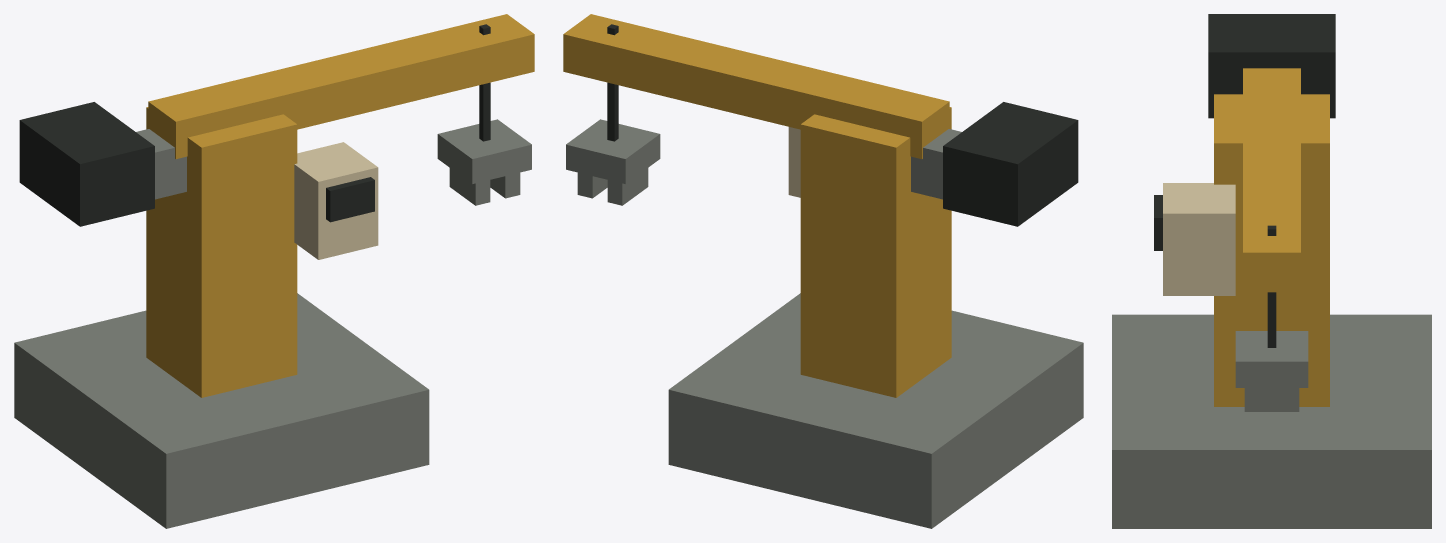
File: crane.gltf
The picture shows the model from 3 angles, left to right: view 1: azimuth 30°, elevation 25°; view 2: azimuth 150°, elevation 25°; view 3: azimuth 270°, elevation 25°; orthographic projection. The views are drawn at different scales.
Visible parts, largest first — view 1: base, tower, boom, counterweight, cab, grip, cabWindow, supportArm, clawLBlade, cable, clawRBlade; view 2: base, tower, boom, counterweight, grip, supportArm, cab, clawLBlade, cable, clawRBlade; view 3: base, tower, boom, counterweight, cab, grip, clawRBlade, cable, cabWindow.
Boxes of the visible parts, x1,y1,x2,y2 form: base: (14, 293, 429, 528); tower: (146, 107, 297, 397); boom: (148, 14, 534, 159); counterweight: (19, 102, 154, 226); cab: (294, 142, 378, 259); grip: (437, 119, 531, 183); cabWindow: (326, 177, 374, 222); supportArm: (136, 129, 186, 199); clawLBlade: (449, 168, 490, 205); cable: (479, 24, 490, 141); clawRBlade: (490, 172, 520, 198); base: (668, 293, 1083, 528); tower: (800, 107, 951, 397); boom: (563, 14, 949, 159); counterweight: (943, 102, 1078, 226); grip: (566, 119, 660, 183); supportArm: (911, 129, 961, 199); cab: (788, 127, 800, 197); clawLBlade: (607, 168, 648, 205); cable: (607, 24, 618, 141); clawRBlade: (577, 172, 607, 198); base: (1112, 314, 1431, 528); tower: (1214, 94, 1329, 406); boom: (1243, 68, 1300, 292); counterweight: (1208, 14, 1335, 118); cab: (1163, 183, 1235, 295); grip: (1235, 331, 1308, 387); clawRBlade: (1244, 388, 1299, 411); cable: (1267, 225, 1276, 347); cabWindow: (1154, 195, 1162, 250).
Bounding box in the file's own units: 3.94 × 2.8 × 2.2.
